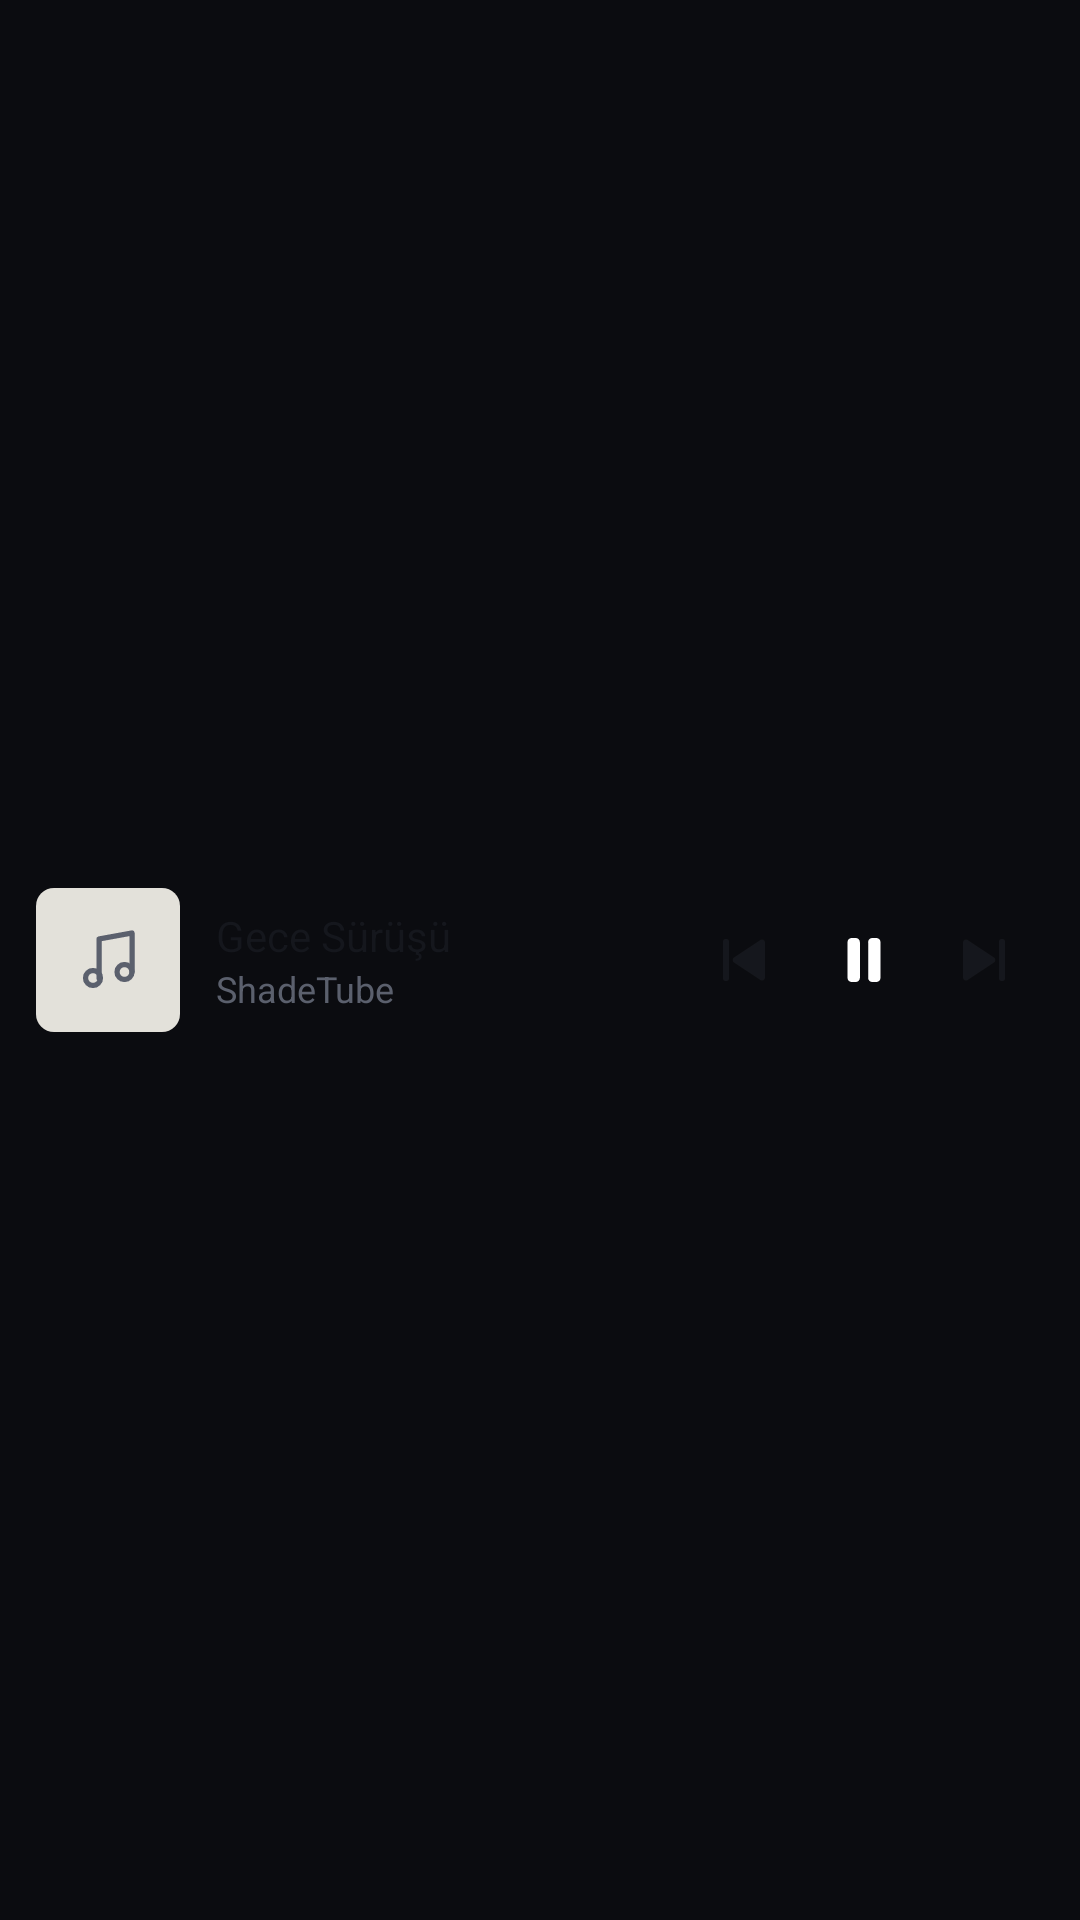

Locate icon controls on the screen. Image size 1080×1920, boxes as {"x1": x1, "y1": y1, "x2": x2, "y2": y2}.
music note: {"x1": 83, "y1": 930, "x2": 135, "y2": 988}
pause: {"x1": 847, "y1": 938, "x2": 881, "y2": 982}
